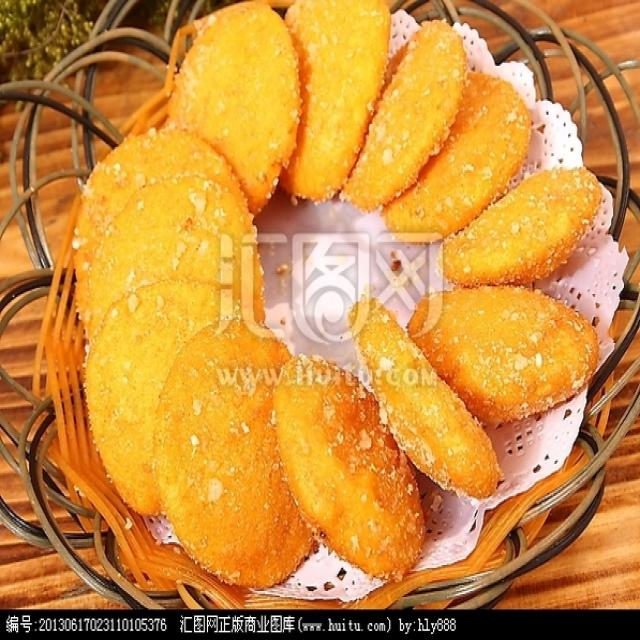炸货点心: (37, 0, 631, 609)
蛋糕甜品: (37, 0, 631, 609)
